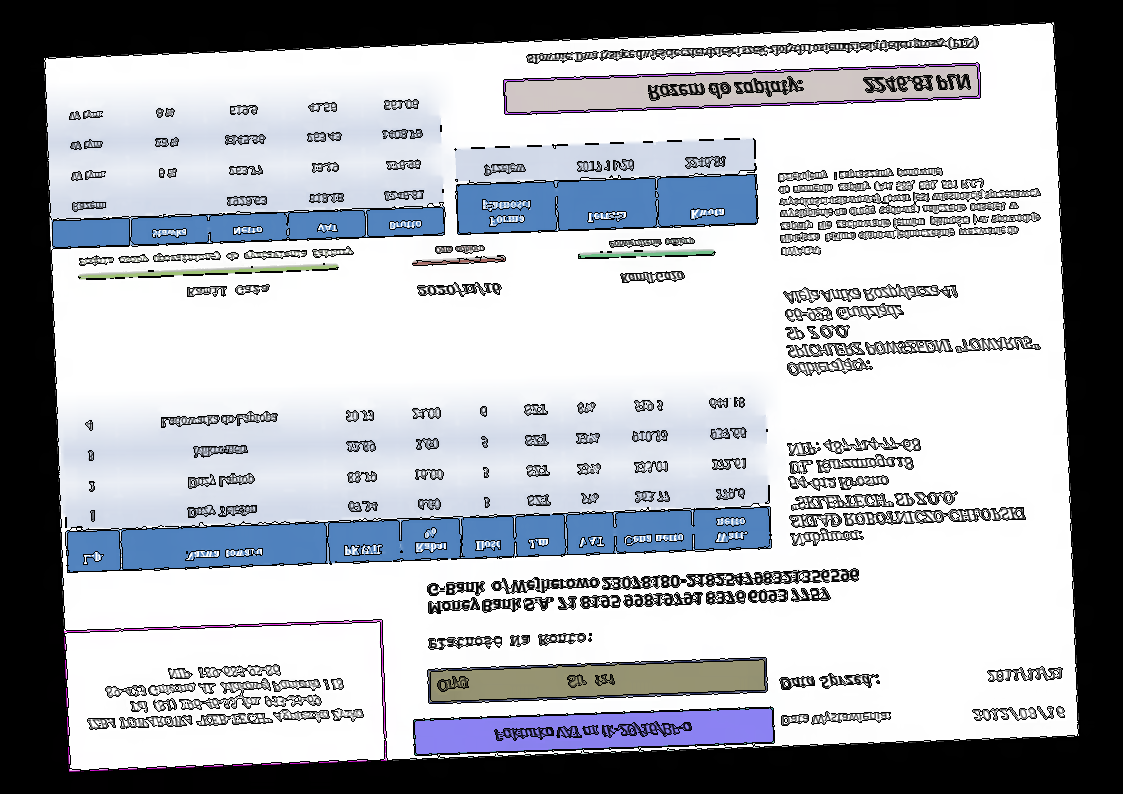Table: (60, 383, 772, 576), (46, 84, 446, 250), (453, 137, 759, 237)
TextBox: (784, 429, 1029, 549), (775, 160, 1047, 260), (781, 278, 1046, 379), (424, 564, 863, 619), (83, 658, 365, 736), (524, 35, 980, 68), (644, 69, 974, 105), (76, 244, 355, 270), (490, 717, 695, 744), (435, 669, 618, 696), (424, 628, 594, 653), (776, 669, 887, 693), (778, 710, 894, 730), (970, 703, 1068, 725), (414, 279, 503, 301), (184, 281, 274, 300), (984, 665, 1066, 685), (607, 235, 695, 252), (616, 268, 687, 287), (431, 242, 488, 257)
